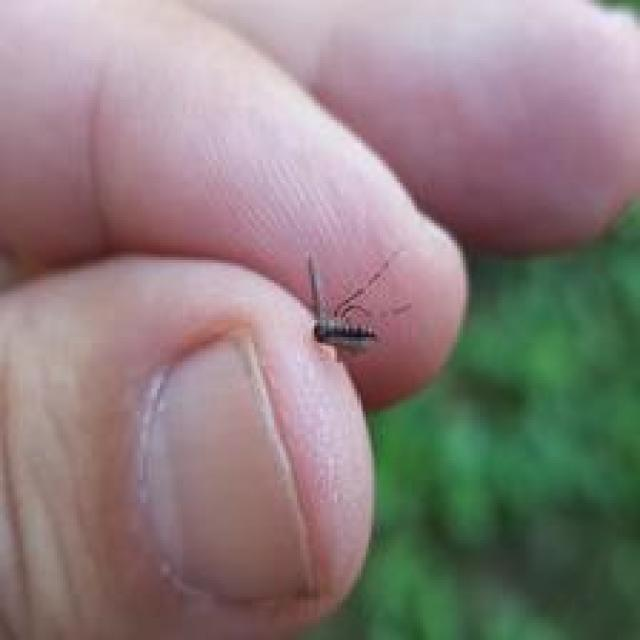Aedes albopictus: (303, 247, 411, 359)
